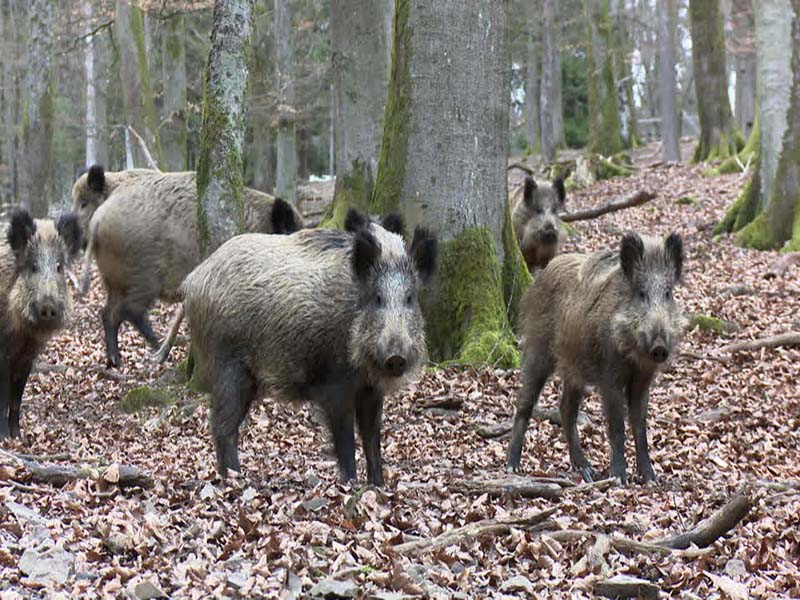cinghiale: (197, 220, 438, 490), (516, 230, 686, 485), (91, 171, 307, 336), (1, 187, 74, 442), (498, 169, 568, 277)
